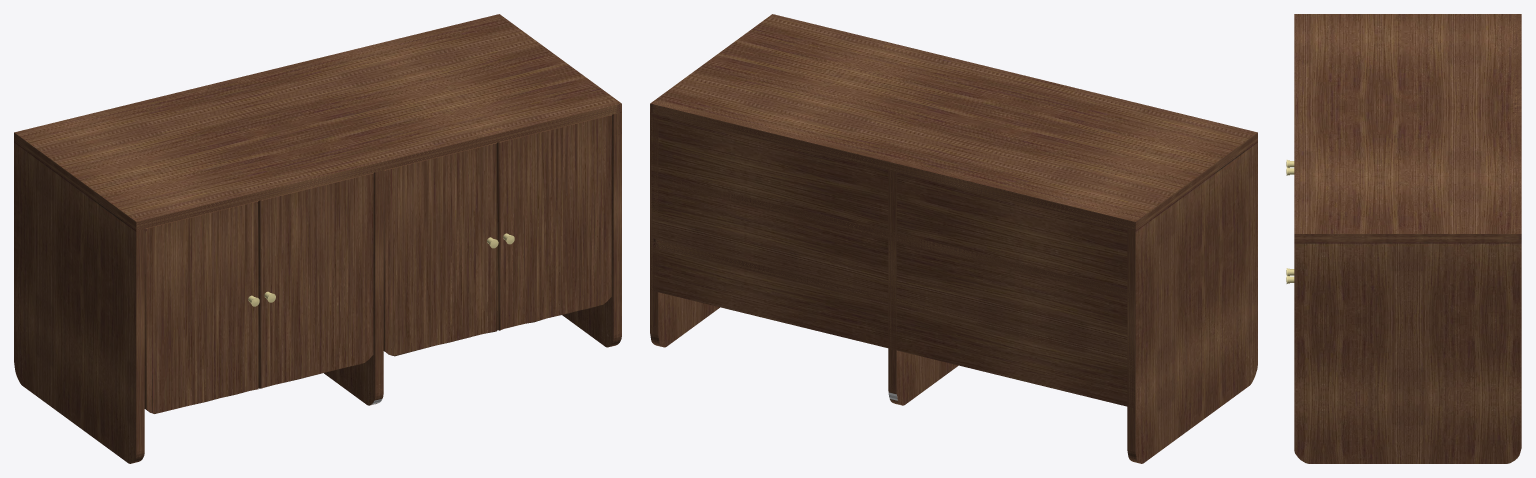
The model's file is sideboard_fluted_buffet_cabinet_free_animatorpark.glb.
3 renders of one model, left to right at view 1: azimuth 30°, elevation 25°; view 2: azimuth 150°, elevation 25°; view 3: azimuth 270°, elevation 25°, orthographic. The views are drawn at different scales.
Visible parts, largest first — view 1: Cube.003_Material.001_0; view 2: Cube.003_Material.001_0; view 3: Cube.003_Material.001_0, Cylinder_Material.002_0.
Part boxes in pixels (left/top/right/bottom): Cube.003_Material.001_0: left=14, top=14, right=621, bottom=463; Cube.003_Material.001_0: left=650, top=14, right=1257, bottom=463; Cube.003_Material.001_0: left=1294, top=14, right=1521, bottom=463; Cylinder_Material.002_0: left=1286, top=160, right=1294, bottom=283.
Size of the model in its own units: 4.59 by 2.23 by 2.07.
3 materials, 1 textured.
